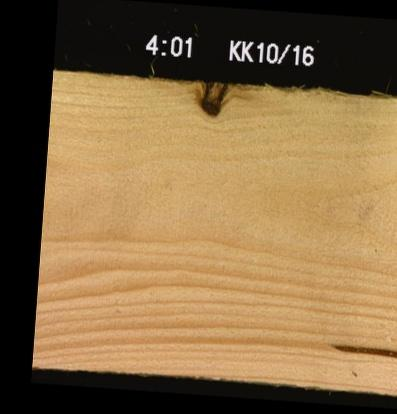edge_knot: (189, 80, 230, 115)
